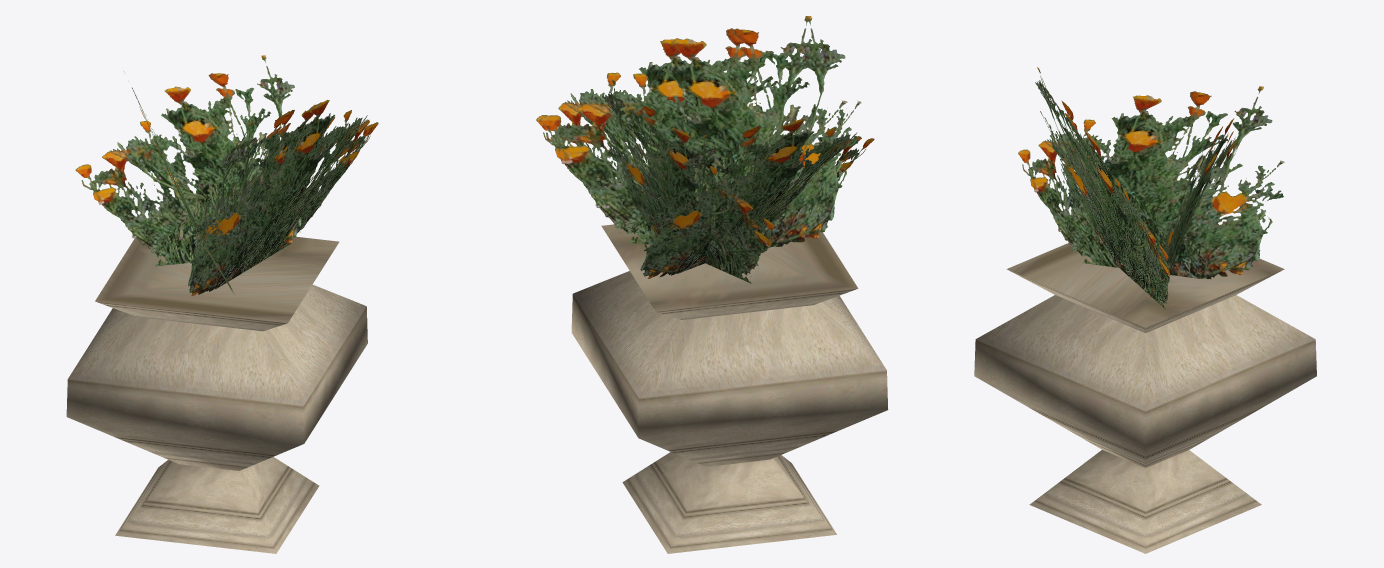
Rendered from thm_nboo_imprv_flower_urn_s01_l2.fbx.
3 views of the same model, side by side, from view 1: azimuth 30°, elevation 25°; view 2: azimuth 150°, elevation 25°; view 3: azimuth 270°, elevation 25° (orthographic). The views are drawn at different scales.
Visible parts, largest first — view 1: mesh_node; view 2: mesh_node; view 3: mesh_node.
Boxes of the visible parts, x1,y1,x2,y2 form: mesh_node: [66, 55, 378, 553]; mesh_node: [536, 16, 888, 553]; mesh_node: [974, 67, 1316, 553].
Bounding box in the file's own units: 1.09 × 1.19 × 0.9813.
